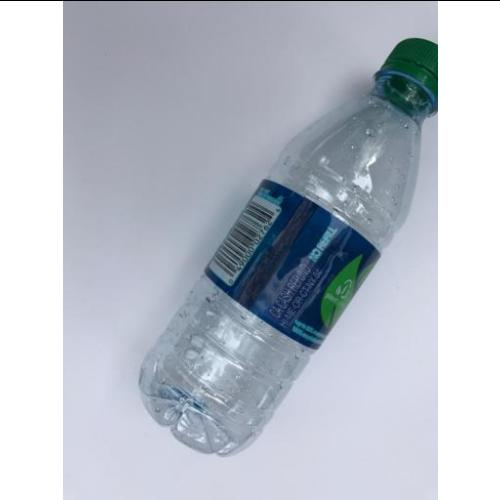plastic: (137, 35, 439, 457)
